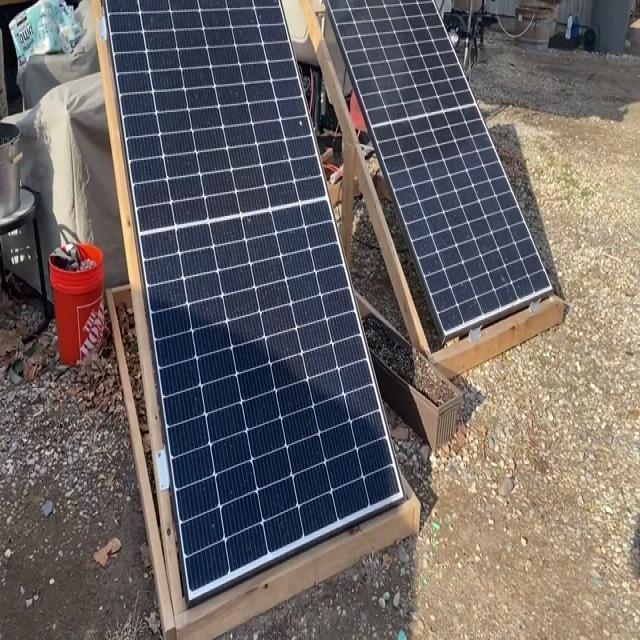Normal Solar Panel: (106, 0, 400, 603), (330, 1, 553, 339)
